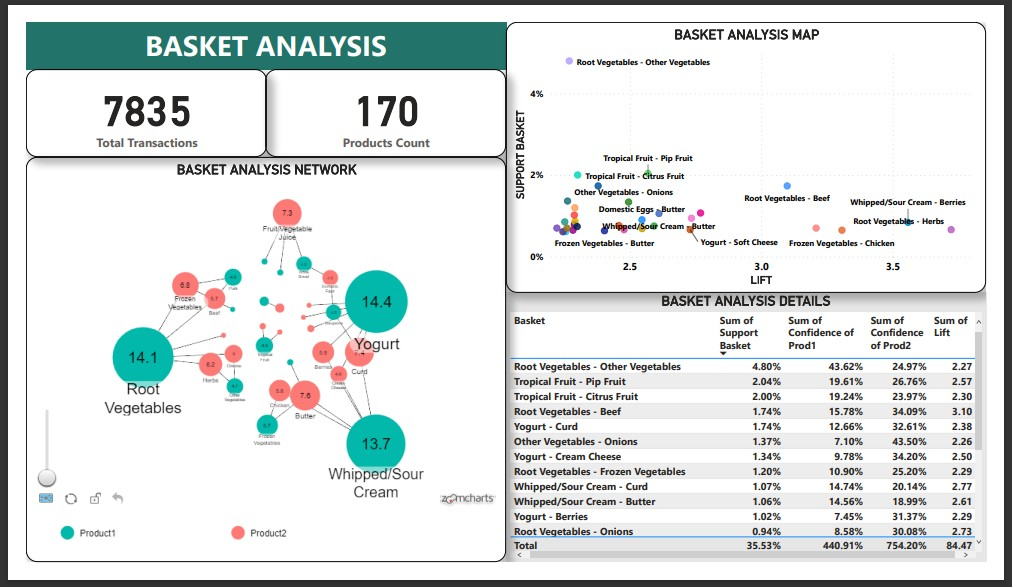

The page's visual inventory and layout, read from the dashboard file:
{"tool":"powerbi","page":{"name":"Network Viz","canvas":[1280,720],"ordinal":0},"visuals":[{"type":"textbox","box":[0,0,640.1,62.6],"z":0},{"type":"tableEx","title":"BASKET ANALYSIS DETAILS","fields":{"Values":["Basket Analysis.Basket","Sum(Basket Analysis.Support Basket)","Sum(Basket Analysis.Confidence of Prod1)","Sum(Basket Analysis.Confidence of Prod2)","Sum(Basket Analysis.Lift)"]},"box":[640,360.6,640,359.2],"z":1},{"type":"scatterChart","title":"BASKET ANALYSIS MAP","fields":{"Category":["Basket Analysis.Basket"],"X":["Sum(Basket Analysis.Lift)"],"Y":["Sum(Basket Analysis.Support Basket)"]},"box":[640,0,640,360.6],"z":2},{"type":"card","fields":{"Values":["Groceries.Products Count"]},"box":[319.3,63.3,320.7,117],"z":3},{"type":"card","fields":{"Values":["Groceries.Total Transactions"]},"box":[0,63.3,320.7,117],"z":4},{"type":"ZoomChartsNetChartFreeD1C58E3B59077E6D06A4CB9B0D4E2029A917","title":"BASKET ANALYSIS NETWORK","fields":{"Nodes":["Basket Analysis.Product1","Basket Analysis.Product2"],"Size":["Sum(Basket Analysis.Lift)"]},"box":[0,180.3,640,539.5],"z":5}]}

Visuals, with their boxes in screenshot pixels (x1, y1, x2, y2):
textbox: box=[5, 18, 504, 67]
"BASKET ANALYSIS DETAILS" tableEx: box=[504, 300, 1003, 580]
"BASKET ANALYSIS MAP" scatterChart: box=[504, 18, 1003, 300]
card - Groceries.Products Count: box=[254, 68, 504, 159]
card - Groceries.Total Transactions: box=[5, 68, 255, 159]
"BASKET ANALYSIS NETWORK" ZoomChartsNetChartFreeD1C58E3B59077E6D06A4CB9B0D4E2029A917: box=[5, 159, 504, 580]
